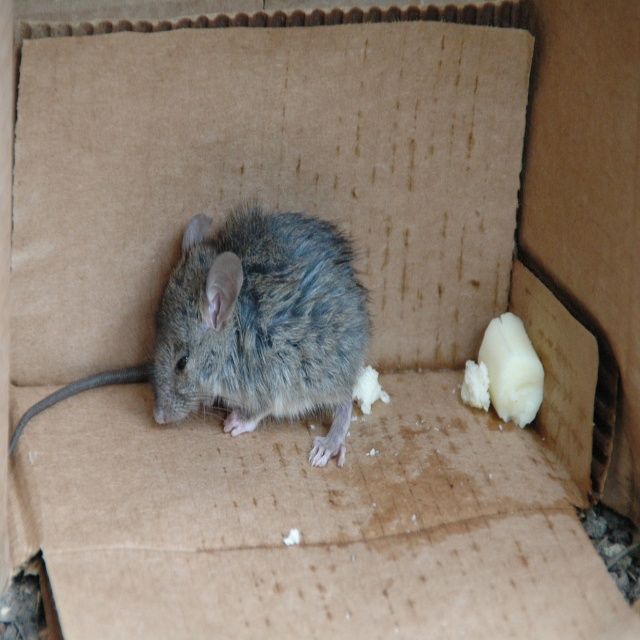Mouse: (7, 195, 374, 470)
